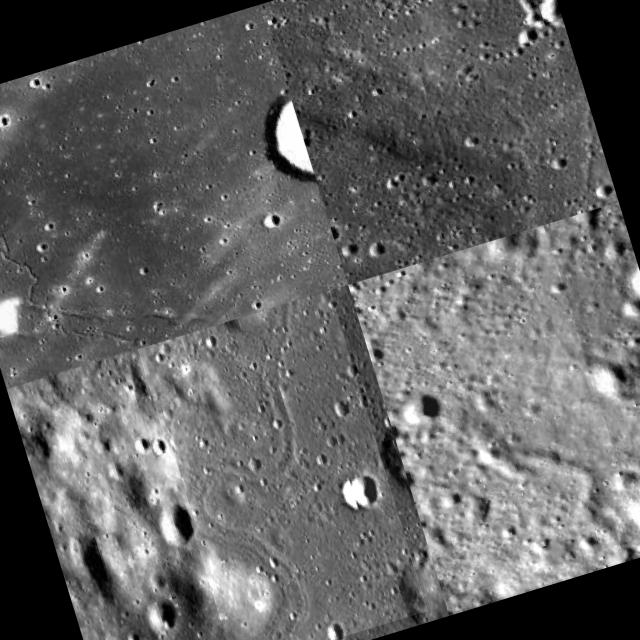rille: (347, 224, 640, 613), (137, 290, 427, 640), (0, 29, 263, 387), (496, 103, 616, 228)
